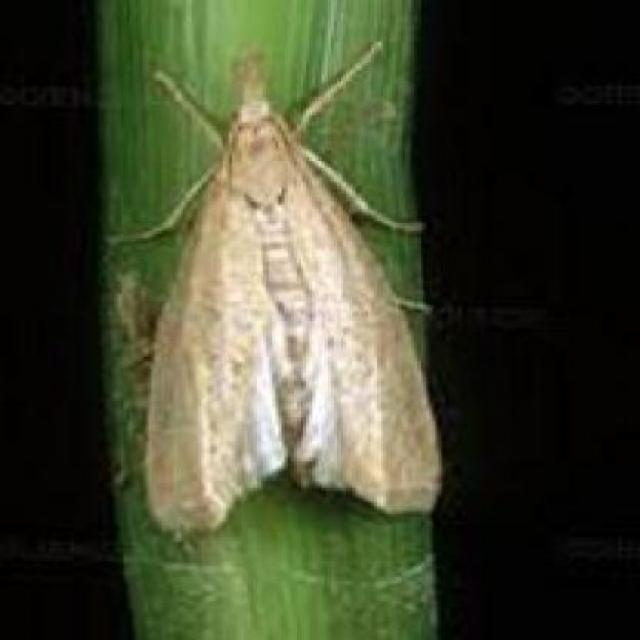stem-borer: (138, 35, 412, 534)
